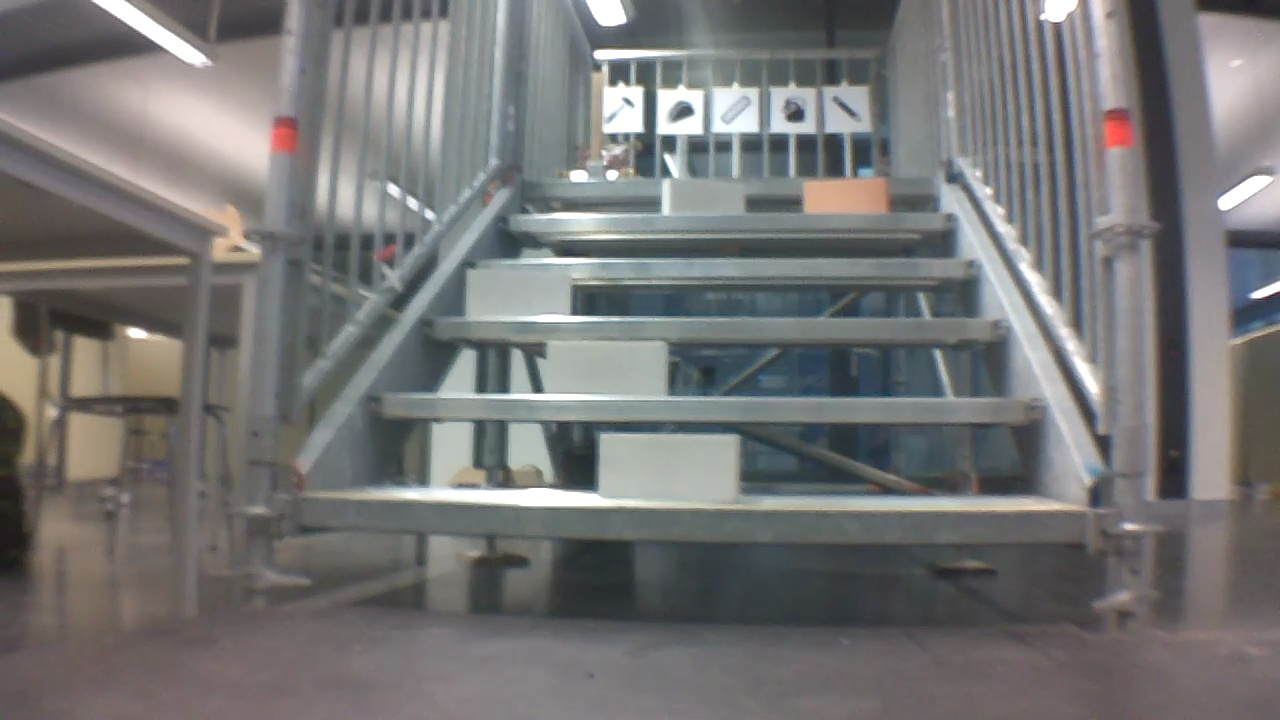brick: (597, 433, 740, 502), (548, 343, 668, 397), (469, 266, 570, 315), (662, 177, 744, 213), (806, 179, 884, 211)
bucket: (776, 95, 809, 123)
edge: (292, 497, 1086, 542), (364, 394, 1047, 425), (420, 318, 1009, 340), (464, 256, 977, 279), (497, 211, 956, 230), (526, 176, 932, 194)
hammer: (605, 90, 640, 129)
pencil: (826, 92, 866, 128)
ruler: (715, 92, 753, 126)
stairs: (244, 4, 1155, 632)
steps: (282, 169, 1098, 558)
taco: (663, 97, 697, 127)
